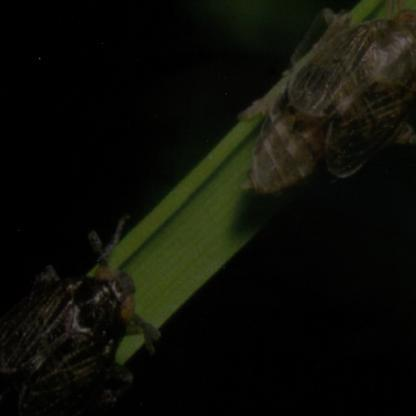rice-bug: (246, 7, 414, 193), (2, 232, 154, 415)
